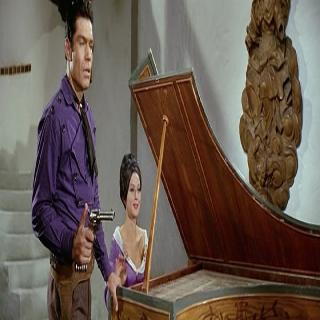gun: (74, 195, 110, 257)
